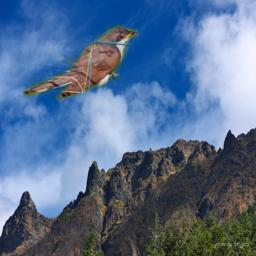Cuckoo: (22, 23, 139, 105)
